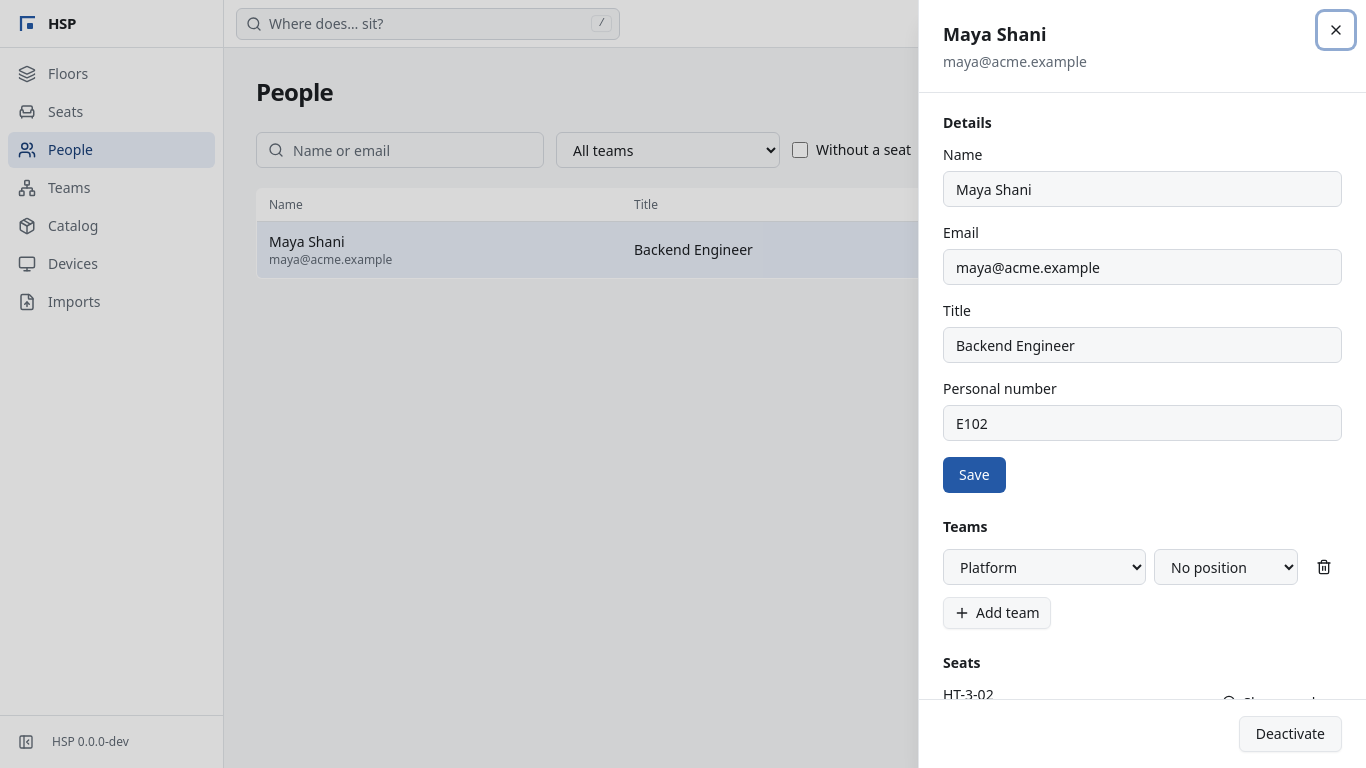
Test: people (docs/0088) › deactivating says which seats were freed; Undo gives back only seats still free
Click the button "Deactivate". click: x=1290, y=734
box: [1239,716,1342,752]
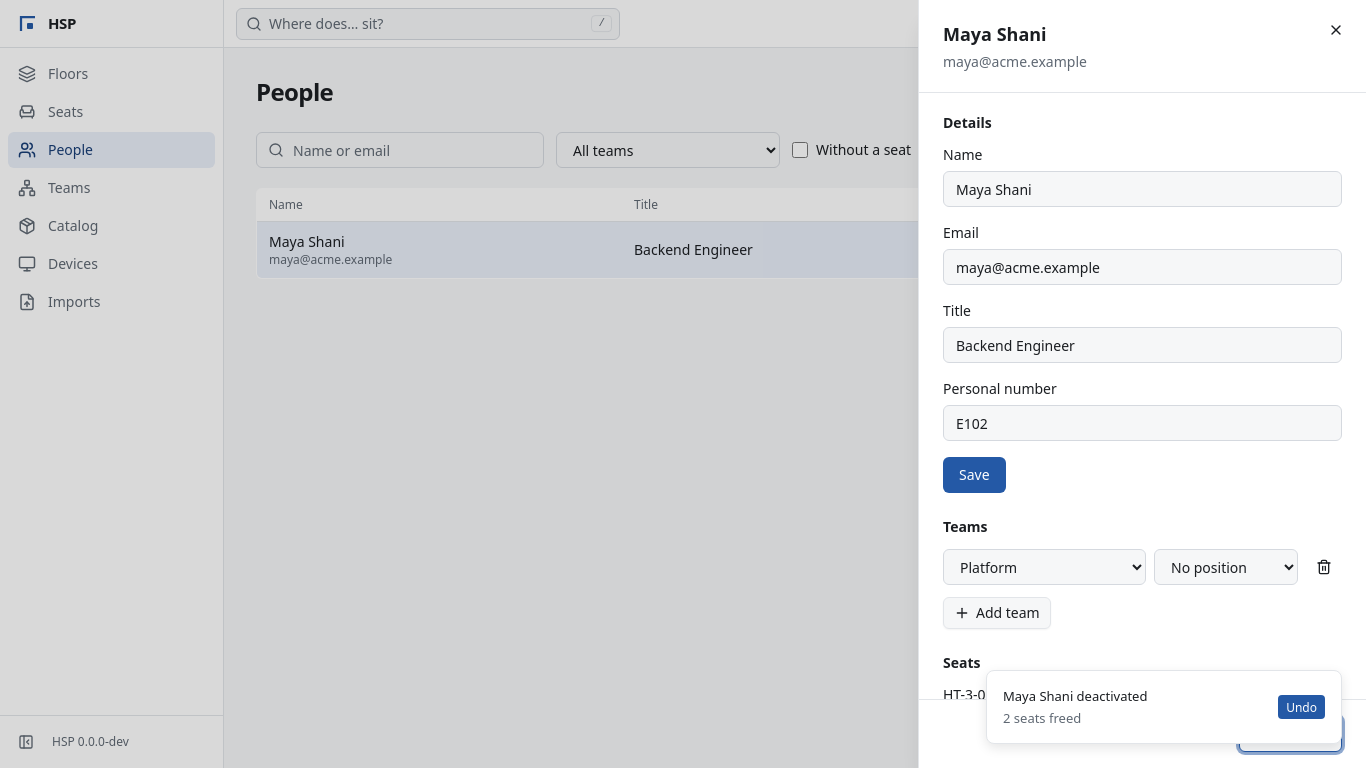
expect the text "Maya Shani deactivated" is shown: met, box [1003,687,1148,707]
expect the text "2 seats freed" is shown: met, box [1003,709,1081,727]
Click the button "Undo". click: x=1302, y=707
box: [1278,695,1325,719]
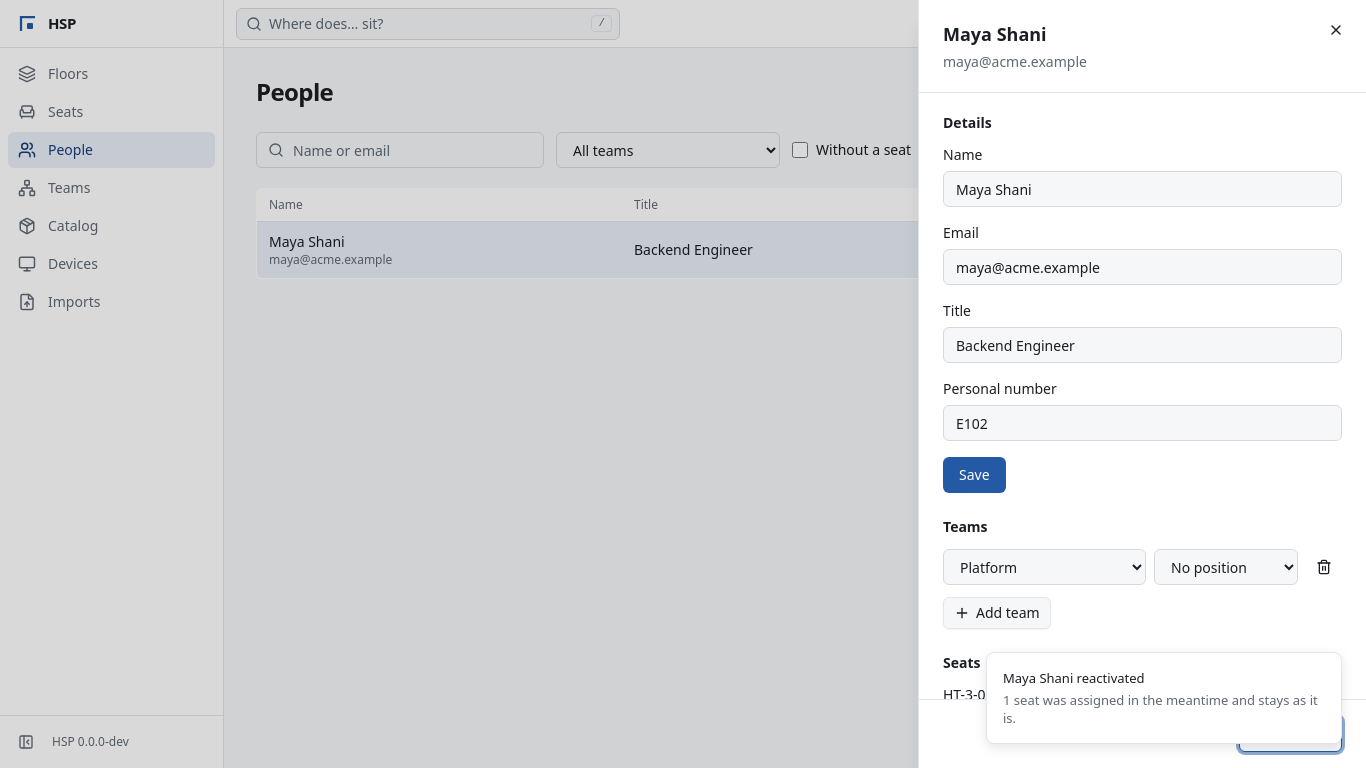
expect the text "1 seat was assigned in the meantime and stays as it is." is shown: met, box [1003,691,1325,727]
